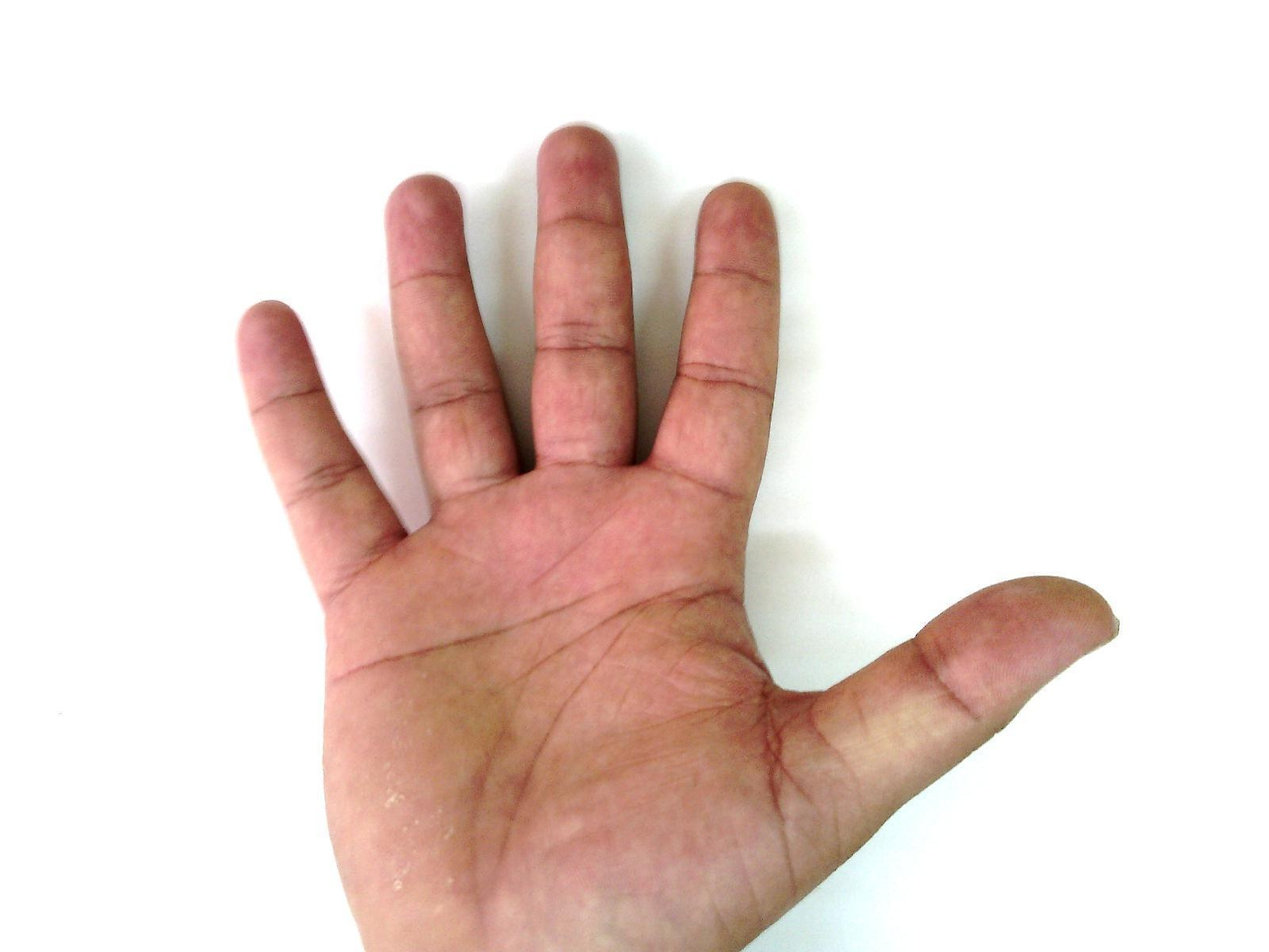open_palm: (232, 122, 1122, 951)
